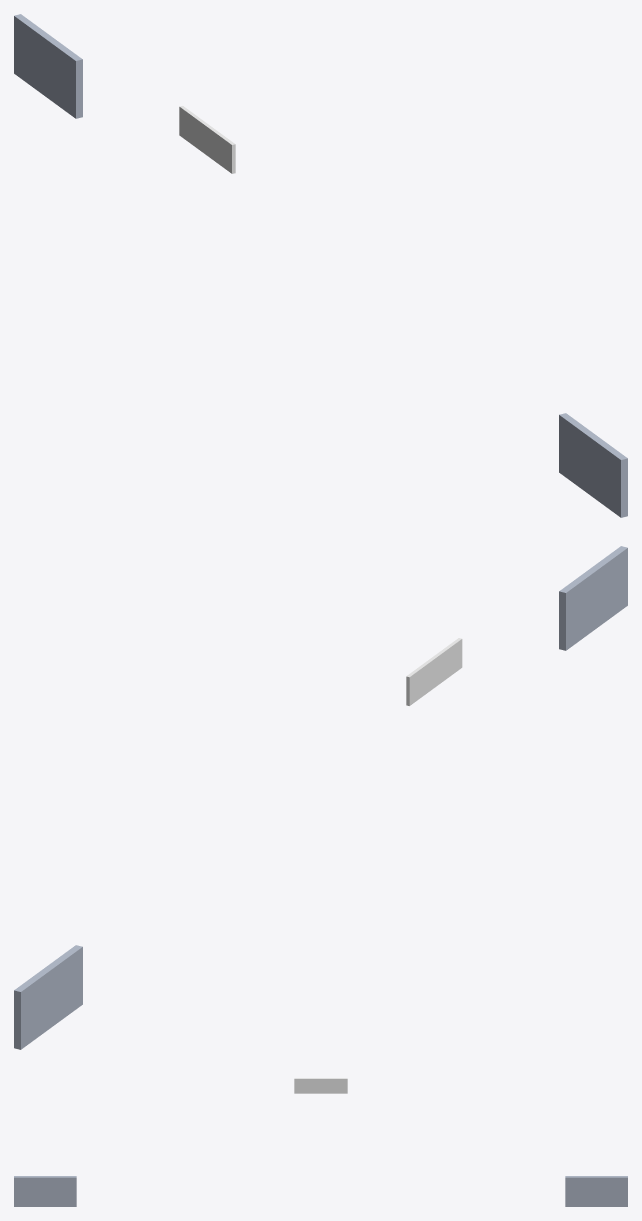
The model's file is Mirrors.glb.
3 renders of one model, top to bottom at view 1: azimuth 30°, elevation 25°; view 2: azimuth 150°, elevation 25°; view 3: azimuth 270°, elevation 25°, orthographic. The views are drawn at different scales.
Visible parts, largest first — view 1: RearMirrorCase.013; view 2: RearMirrorCase.013; view 3: RearMirrorCase.013.
Part boxes in pixels (x1,y1,x2,y2): RearMirrorCase.013: [14, 14, 627, 517]; RearMirrorCase.013: [14, 546, 627, 1049]; RearMirrorCase.013: [14, 1078, 627, 1206].
Bounding box in the file's own units: 0.0103 × 0.0163 × 0.0912.
Materials: 1 (1 with a texture image).
